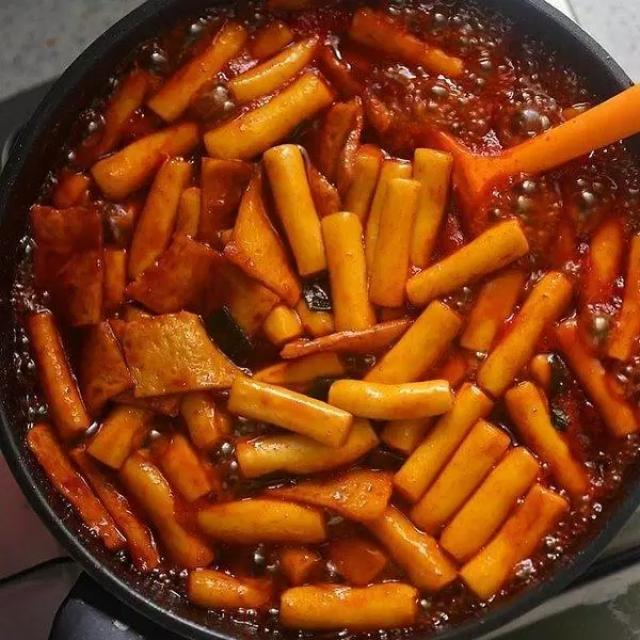banh gao: (386, 390, 568, 580), (330, 162, 458, 329), (195, 14, 315, 150), (94, 80, 191, 236), (473, 276, 574, 388), (409, 223, 528, 302), (130, 456, 213, 567), (263, 143, 328, 276), (235, 424, 382, 470), (235, 380, 352, 436), (28, 312, 81, 434), (373, 312, 460, 384), (279, 586, 419, 628), (206, 504, 324, 550), (334, 379, 451, 416), (93, 409, 153, 467), (197, 576, 276, 611)
cha ca: (144, 162, 288, 316), (40, 439, 162, 567), (119, 314, 239, 393), (46, 203, 113, 319)
